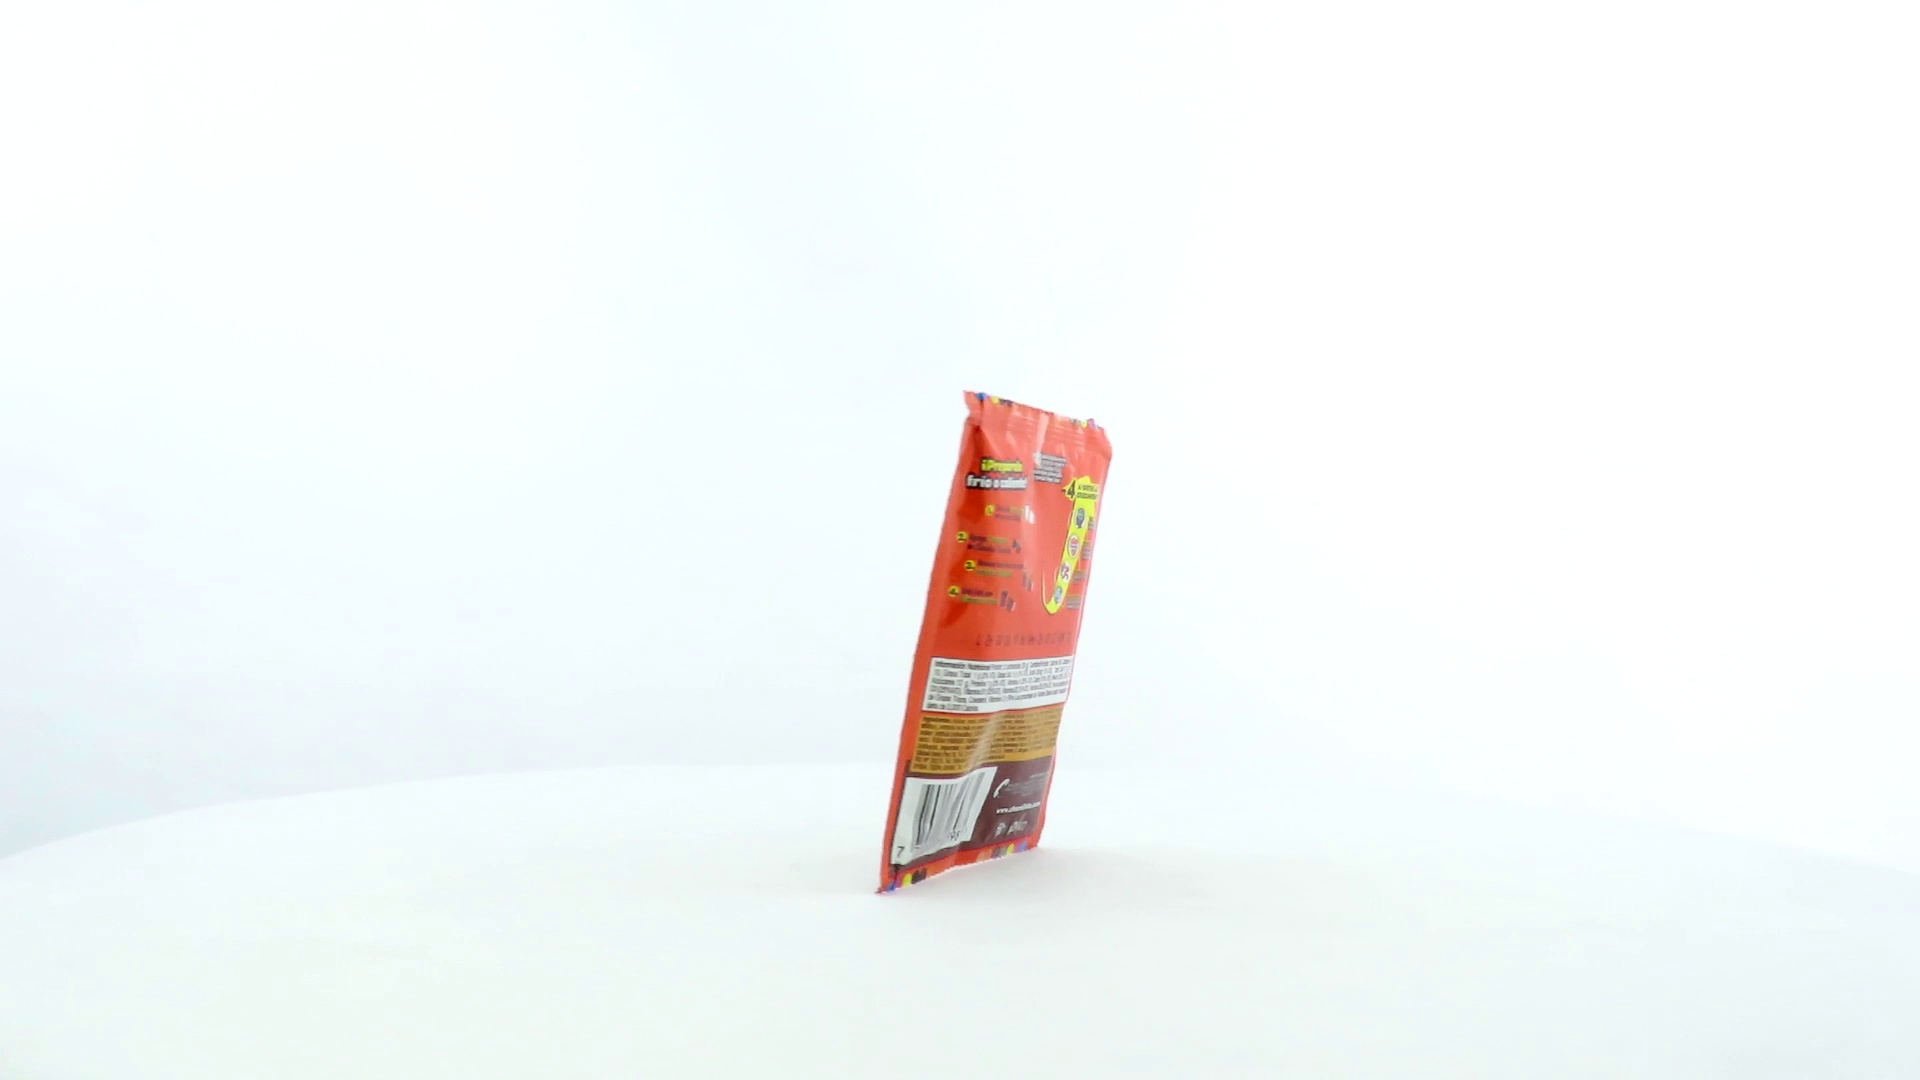COL0170103SOB02000: (869, 385, 1118, 899)
